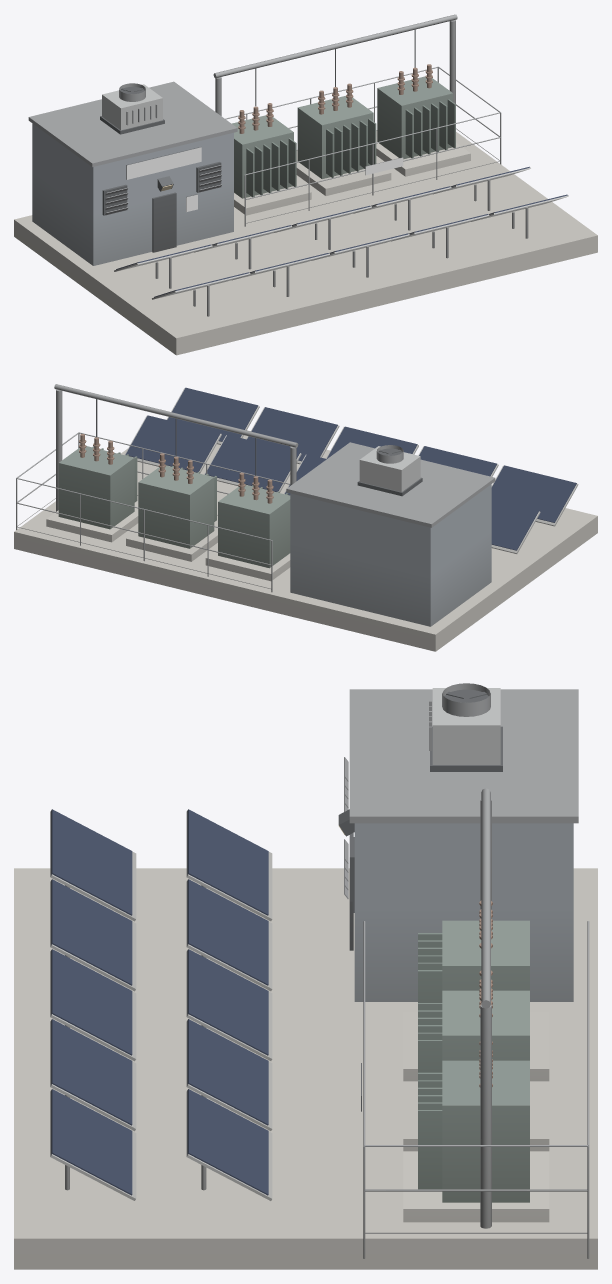
Rendered from power.glb.
3 views of the same model, one above another, from view 1: azimuth 30°, elevation 25°; view 2: azimuth 150°, elevation 25°; view 3: azimuth 270°, elevation 25° (orthographic). The views are drawn at different scales.
Visible parts, largest first — view 1: power; view 2: power; view 3: power.
Boxes of the visible parts, x1,y1,x2,y2 form: power: (14,14,597,355); power: (14,384,597,651); power: (14,683,597,1269).
Bounding box in the file's own units: 18.02 × 6.34 × 12.
